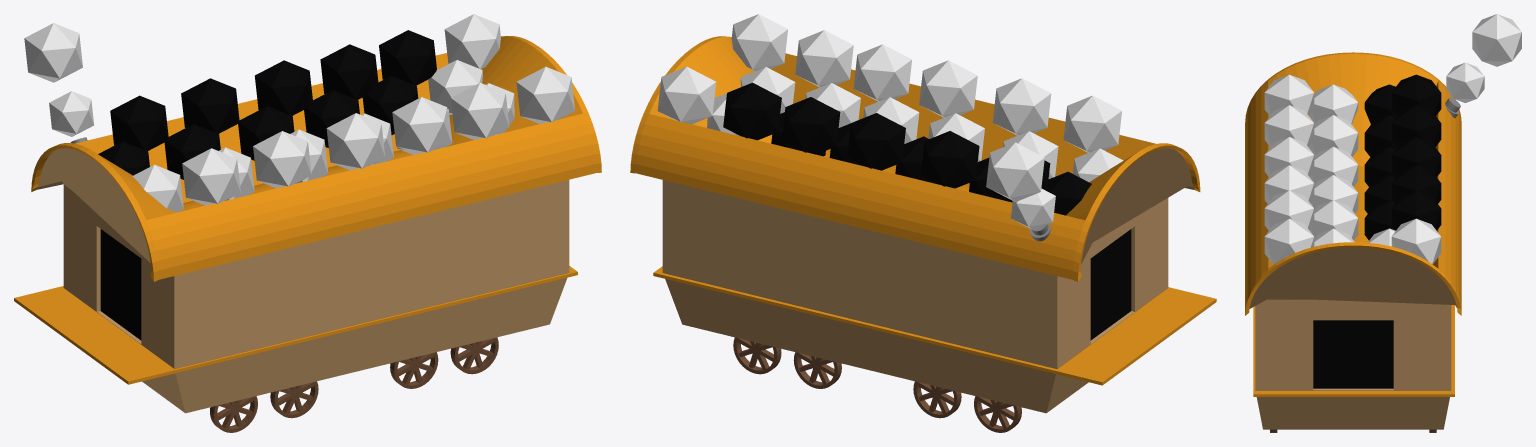
File: Train_car_3.fbx
3 renders of one model, left to right at view 1: azimuth 30°, elevation 25°; view 2: azimuth 150°, elevation 25°; view 3: azimuth 270°, elevation 25°, orthographic. The views are drawn at different scales.
Visible parts, largest first — view 1: Cube.012, Cube.029, Icosphere.016, Icosphere.027, Icosphere.026, Icosphere.028, Icosphere.037, Icosphere.029, Icosphere.036, Icosphere.024, Icosphere.025, Icosphere.023 (+17 smaller); view 2: Cube.012, Cube.029, Icosphere.016, Icosphere.023, Icosphere.024, Icosphere.039, Icosphere.038, Icosphere.022, Icosphere.026, Icosphere.028, Icosphere.037, Icosphere.029 (+18 smaller); view 3: Cube.012, Icosphere.016, Cube.029, Icosphere.036, Icosphere.027, Icosphere.024, Icosphere.039, Icosphere.026, Icosphere.025, Icosphere.032, Icosphere.028, Icosphere.037 (+16 smaller).
Boxes of the visible parts, x1,y1,x2,y2 form: Cube.012: (31, 36, 601, 413); Cube.029: (14, 266, 577, 384); Icosphere.016: (24, 23, 82, 82); Icosphere.027: (253, 131, 311, 188); Icosphere.026: (182, 148, 240, 205); Icosphere.028: (326, 113, 385, 170); Icosphere.037: (450, 82, 509, 139); Icosphere.029: (392, 97, 450, 154); Icosphere.036: (516, 66, 574, 123); Icosphere.024: (181, 78, 239, 133); Icosphere.025: (110, 95, 168, 151); Icosphere.023: (254, 60, 312, 115); Cube.012: (630, 36, 1200, 413); Cube.029: (653, 266, 1216, 385); Icosphere.016: (986, 142, 1044, 201); Icosphere.023: (847, 113, 905, 170); Icosphere.024: (921, 131, 979, 188); Icosphere.039: (657, 66, 716, 124); Icosphere.038: (723, 82, 781, 140); Icosphere.022: (781, 97, 840, 154); Icosphere.026: (1063, 95, 1121, 152); Icosphere.028: (919, 60, 977, 117); Icosphere.037: (795, 30, 853, 87); Icosphere.029: (853, 44, 911, 101); Cube.012: (1245, 52, 1461, 429); Icosphere.016: (1472, 14, 1521, 66); Cube.029: (1253, 305, 1454, 396); Icosphere.036: (1264, 218, 1314, 264); Icosphere.027: (1264, 105, 1314, 146); Icosphere.024: (1391, 105, 1441, 146); Icosphere.039: (1391, 218, 1441, 264); Icosphere.026: (1264, 74, 1314, 115); Icosphere.025: (1391, 74, 1441, 115); Icosphere.032: (1308, 115, 1358, 156); Icosphere.028: (1264, 137, 1314, 176); Icosphere.037: (1264, 190, 1314, 230).
Size of the model in its own units: 2137 by 1426 by 1233.
